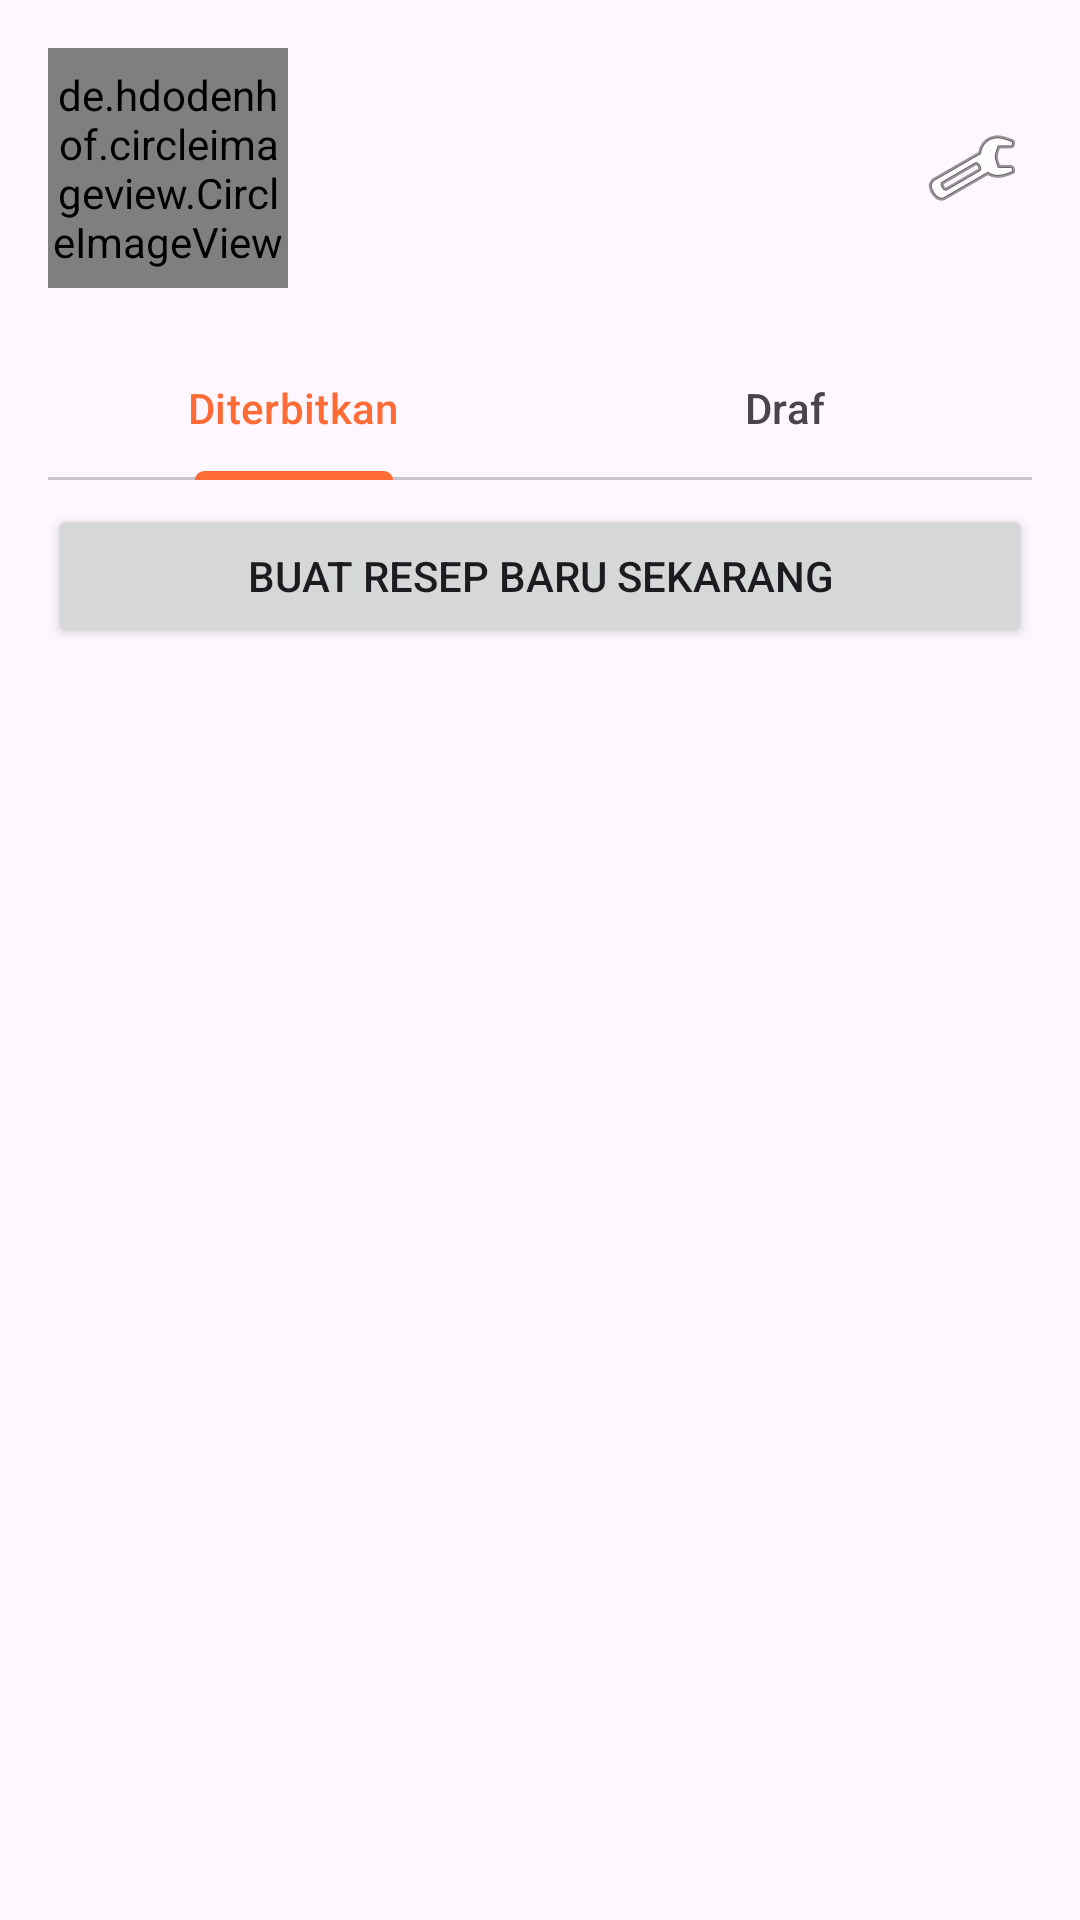

Icons on this 1080×1920 Android screen, each with its box as (x1, y1, x2, y2):
preferences: (929, 135, 1015, 201)
